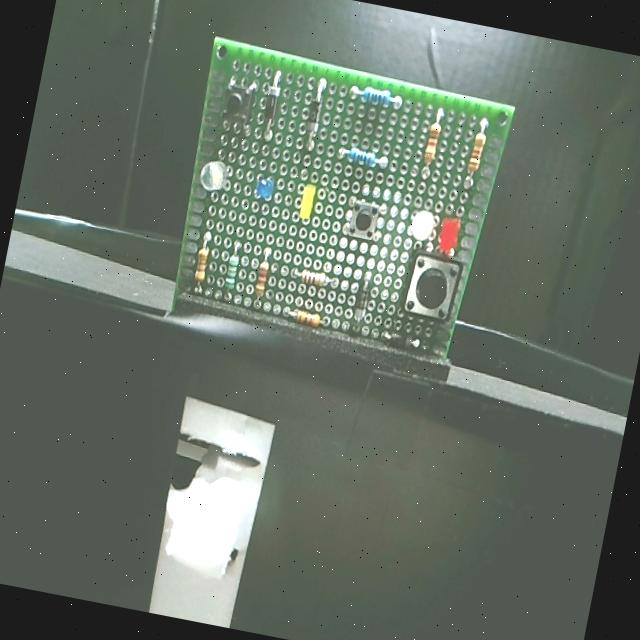diode: (298, 72, 332, 157), (257, 66, 288, 146), (347, 269, 377, 342), (378, 325, 426, 357)
led: (401, 206, 441, 250), (196, 156, 236, 198), (433, 215, 466, 259), (293, 180, 321, 227), (250, 170, 282, 208)
resistor: (416, 105, 449, 188), (345, 78, 408, 119), (461, 113, 492, 196), (329, 139, 393, 179), (217, 235, 249, 308), (186, 228, 218, 300), (248, 244, 278, 314), (278, 302, 334, 336), (285, 264, 343, 296)
switch: (394, 240, 466, 331), (214, 75, 264, 144), (337, 195, 387, 247)
